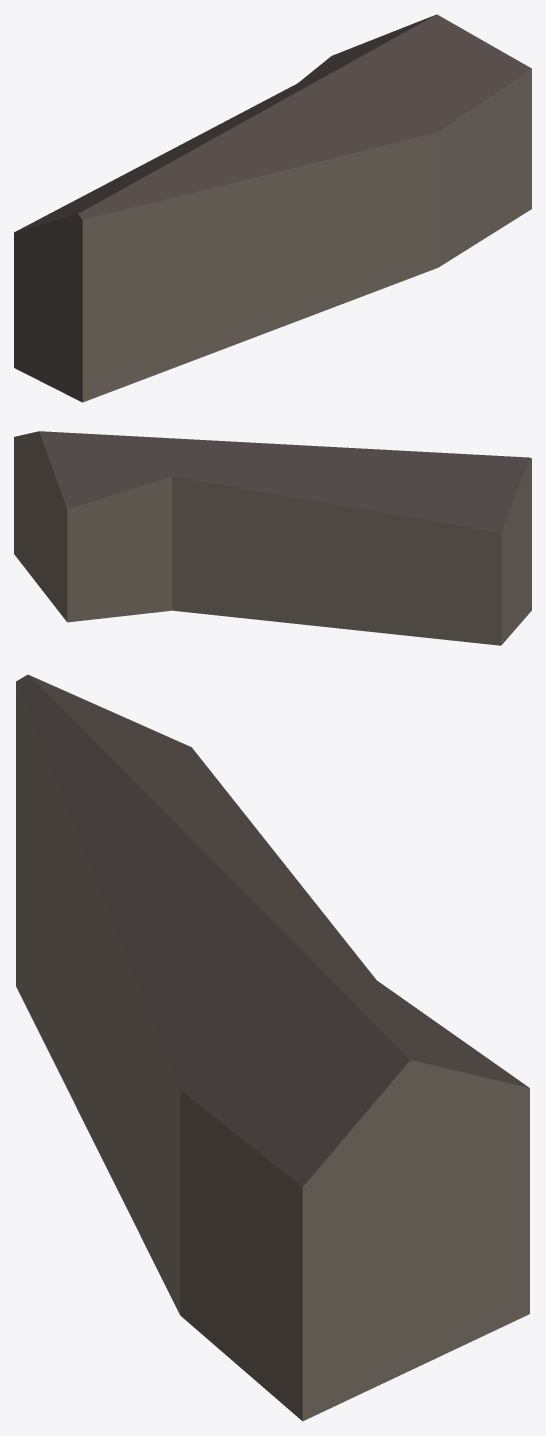
3 views of the same model, one above another, from view 1: azimuth 30°, elevation 25°; view 2: azimuth 150°, elevation 25°; view 3: azimuth 270°, elevation 25° (orthographic). The views are drawn at different scales.
Visible parts, largest first — view 1: HP-w248876130; view 2: HP-w248876130; view 3: HP-w248876130.
Part boxes in pixels (x1,y1,x2,y2): HP-w248876130: (14,14,531,402); HP-w248876130: (14,431,531,645); HP-w248876130: (16,674,529,1421).
Bounding box in the file's own units: 25.56 × 8.25 × 12.38.
